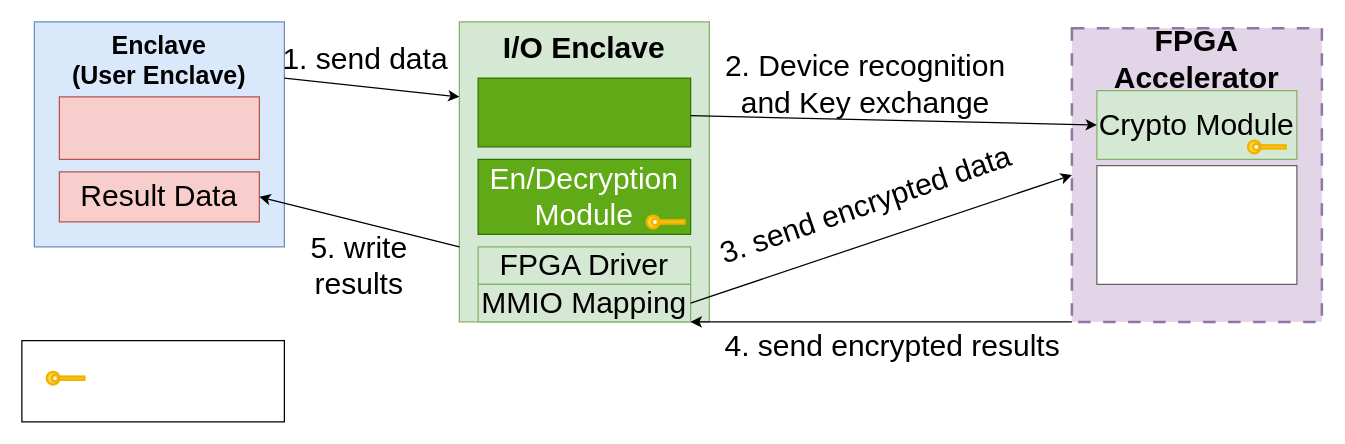
Some shapes in this 1345 by 444 pixel diagram are drawn without their labels. Each missing label, with the centre of its shape:
Key_peripheral: point 152,380
Programmable Logic: point 1196,224
Recognition Module: point 584,112
User Data: point 158,127
